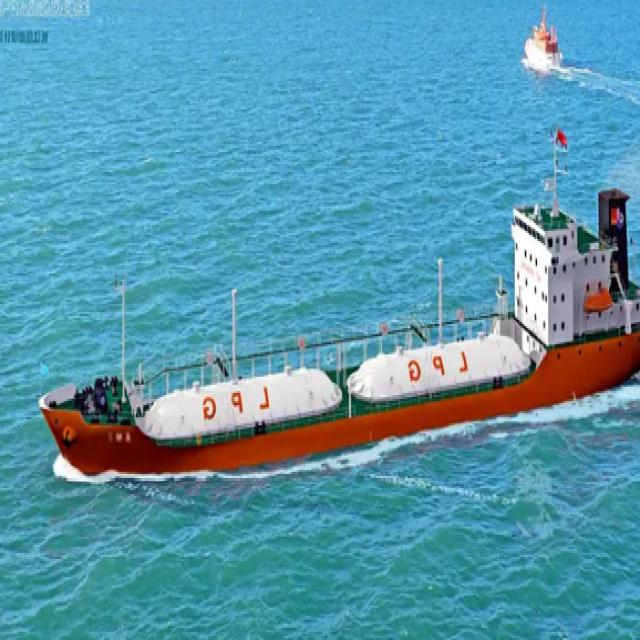cargoship: (37, 119, 640, 484), (522, 1, 562, 71)
